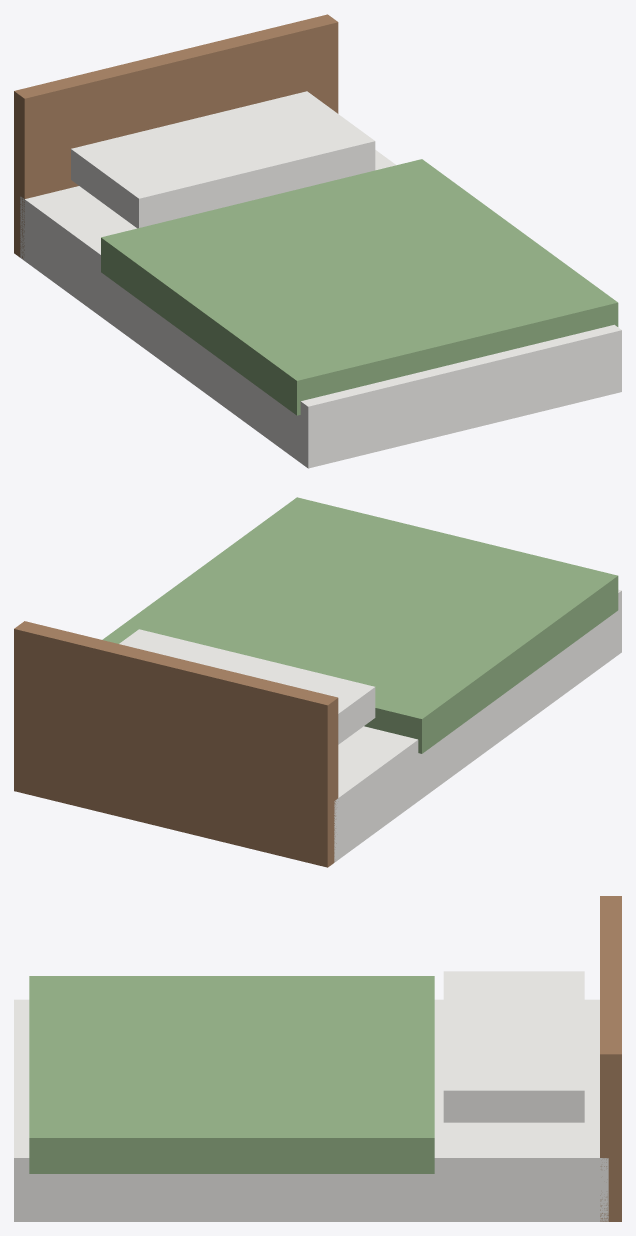
The model's file is bed.glb.
3 renders of one model, top to bottom at view 1: azimuth 30°, elevation 25°; view 2: azimuth 150°, elevation 25°; view 3: azimuth 270°, elevation 25°, orthographic. The views are drawn at different scales.
Parts seen in each view (by area): view 1: Bed; view 2: Bed; view 3: Bed.
Boxes of the visible parts, x1=… form: Bed: x1=14, y1=14, x2=621, y2=468; Bed: x1=14, y1=497, x2=621, y2=867; Bed: x1=14, y1=896, x2=621, y2=1221.
Size of the model in its own units: 0.87 by 0.42 by 1.38.
